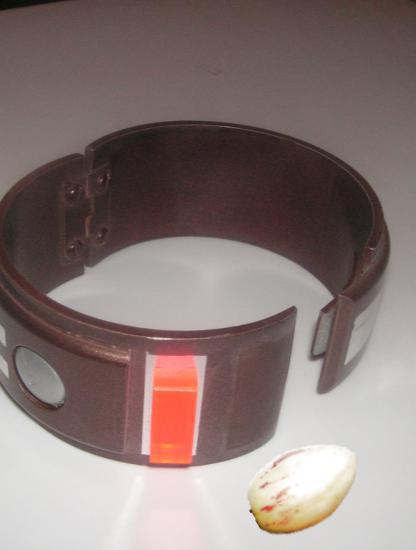Pepino: (244, 425, 366, 547)
